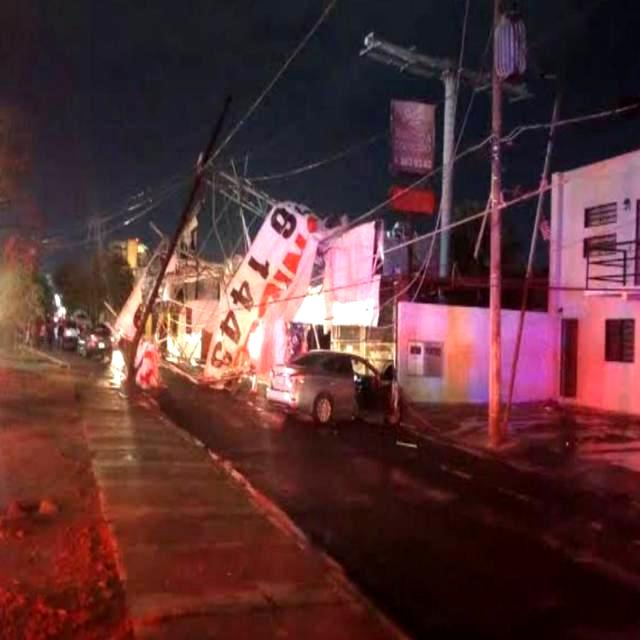Broken Pole: (125, 92, 237, 386)
